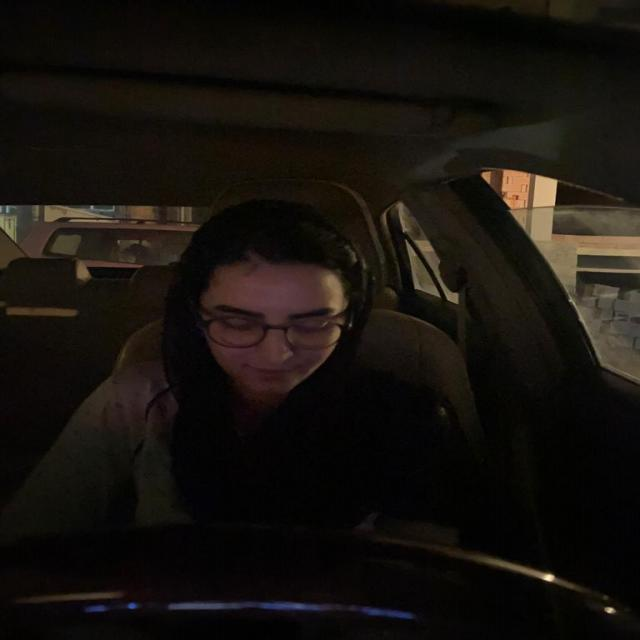drowsy: (194, 224, 360, 400)
